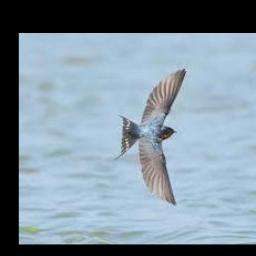Swallow: (111, 69, 185, 206)
